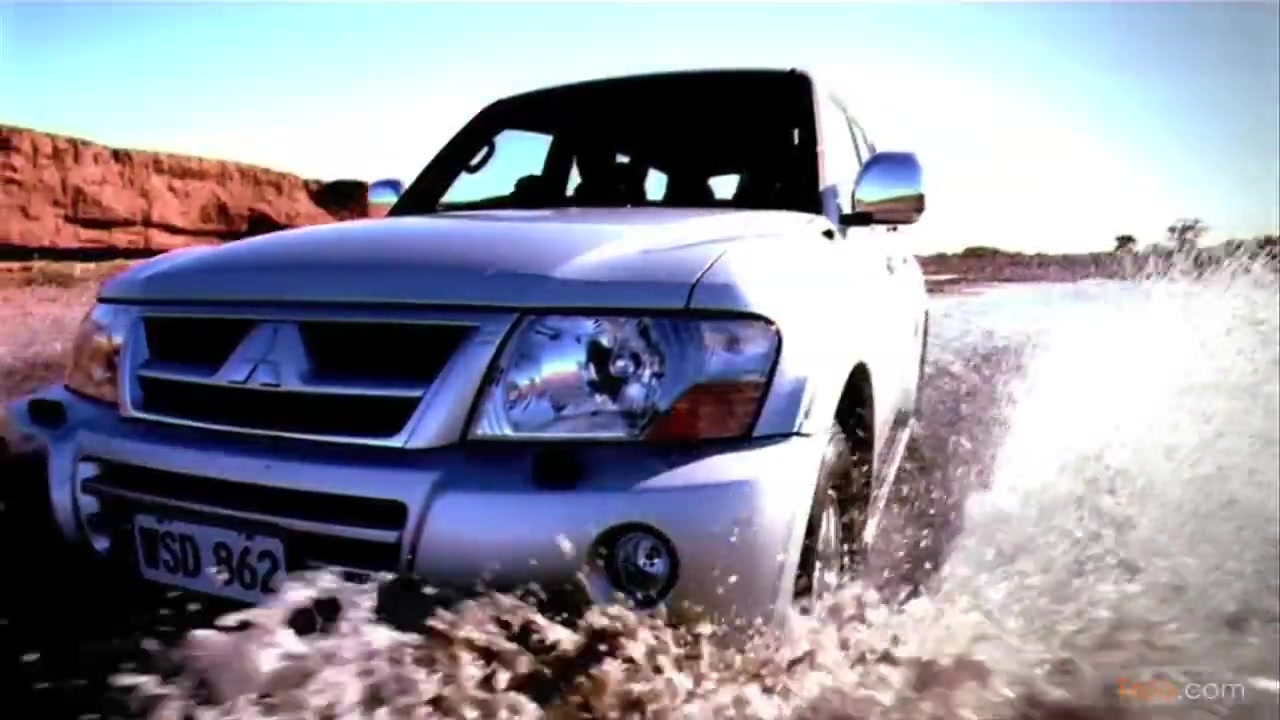car: (15, 68, 934, 672)
